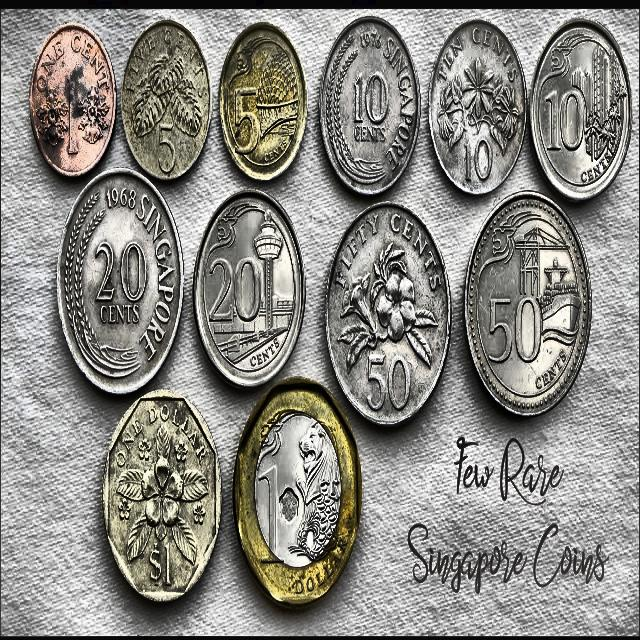coin: (233, 379, 361, 604)
